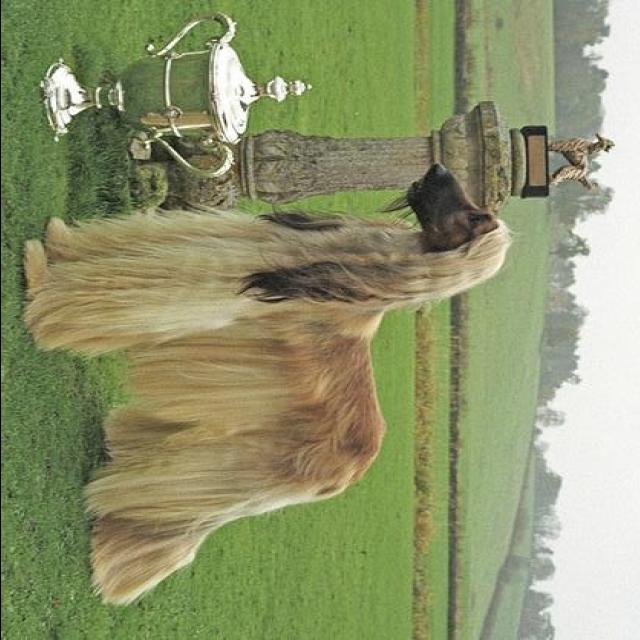afghan_hound: (22, 162, 514, 610)
